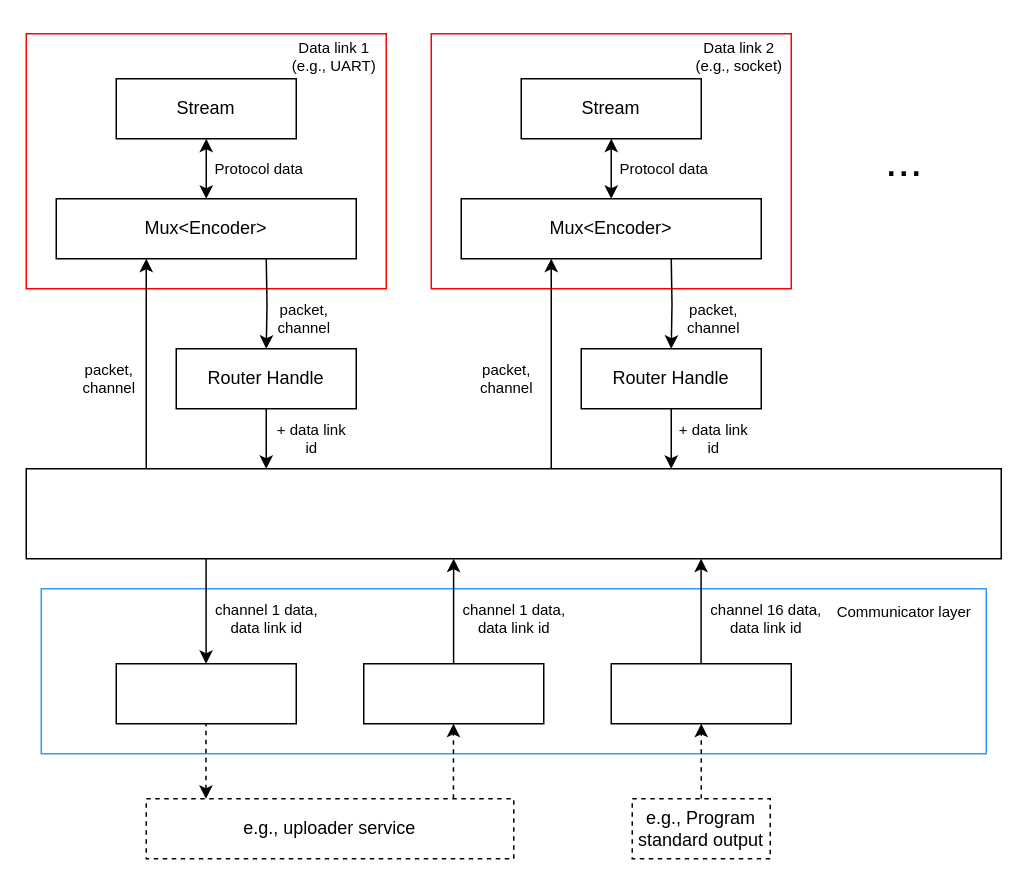
This 1028x885 diagram has some shape labels left out. The shapes that lost their labels are listed below. From the top down, each one's box as (x1, y1, x2, y2) in pixels, then its label:
(25, 467, 1001, 559): Router
(115, 662, 296, 724): Input Packet Communicator
(362, 662, 544, 724): Output Packet Communicator
(610, 662, 791, 724): Output Stream Communicator
